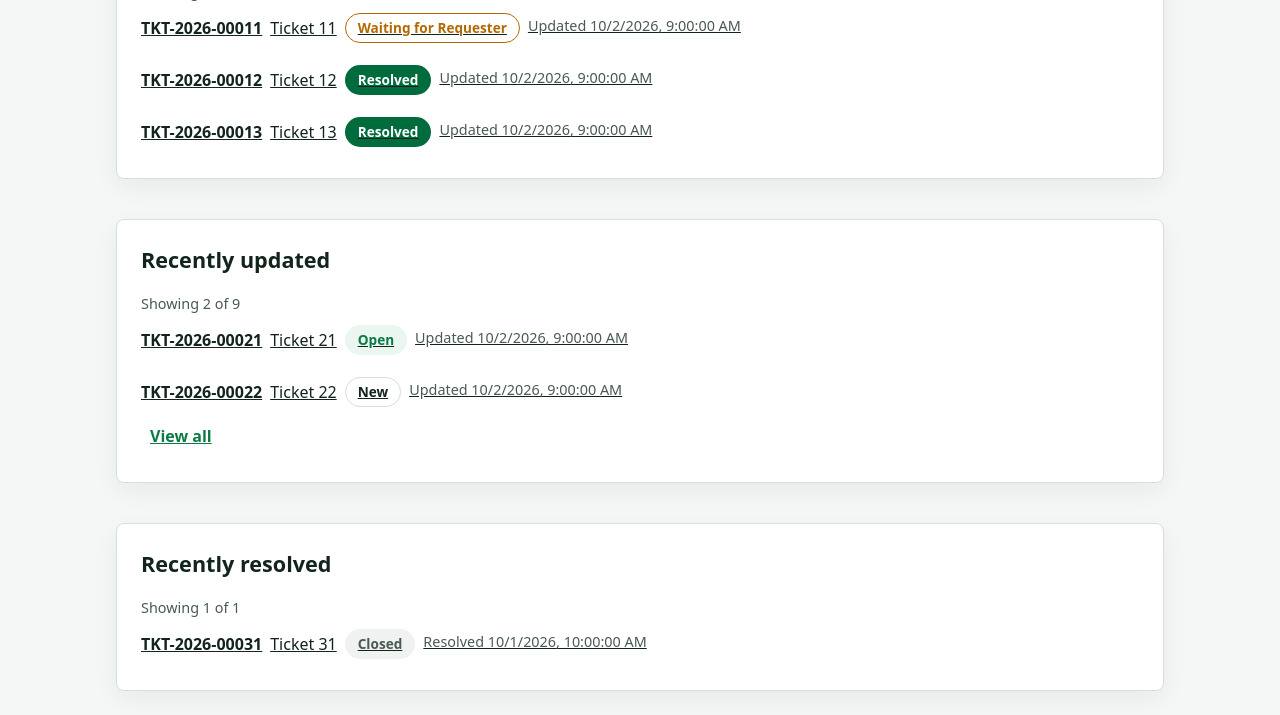
Test: UI-06 Recently updated's View all keeps the panel's order (D-17, follow-up to the #102 review) › opens My Tickets asking for the most recently updated first, with the Sort control showing it
(page scrolled)
Click the link "View all" at (181, 436), box [150, 425, 212, 447]
(page scrolled)
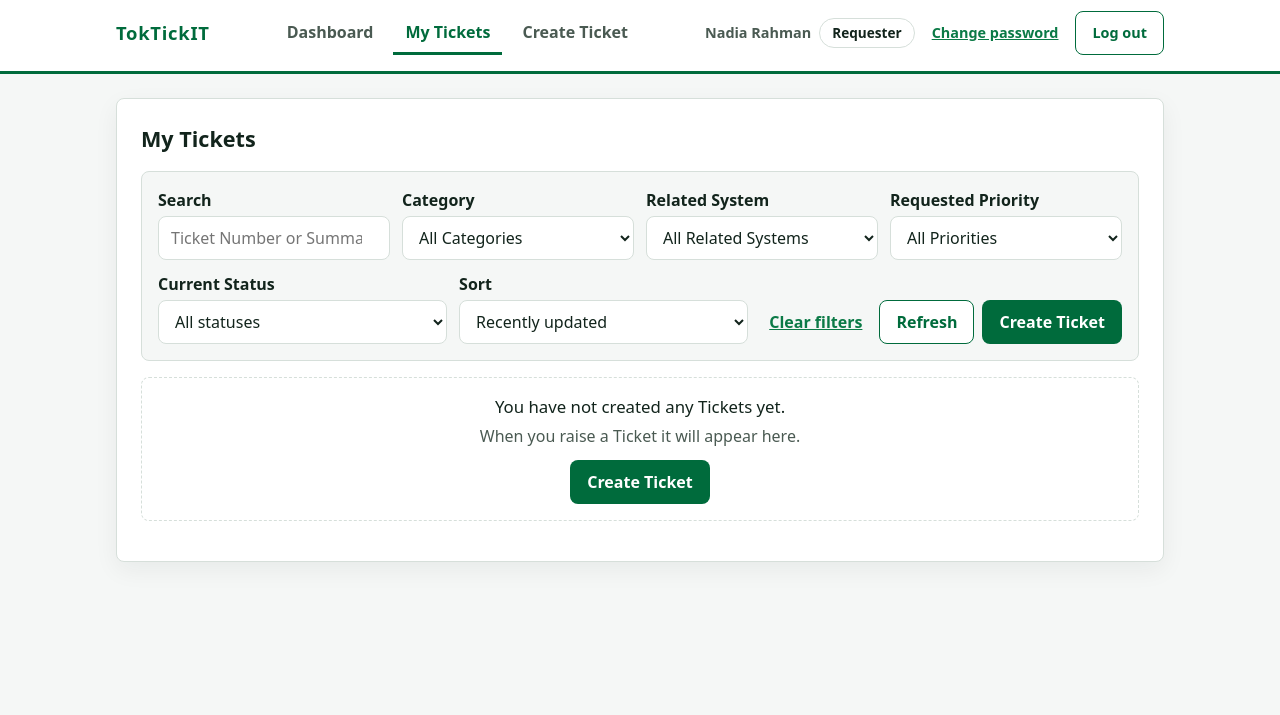
Expected: the heading "My Tickets" is shown, [141, 124, 256, 153]
Expected: the dropdown labelled "Sort" shows "Recently updated", [459, 300, 748, 344]
